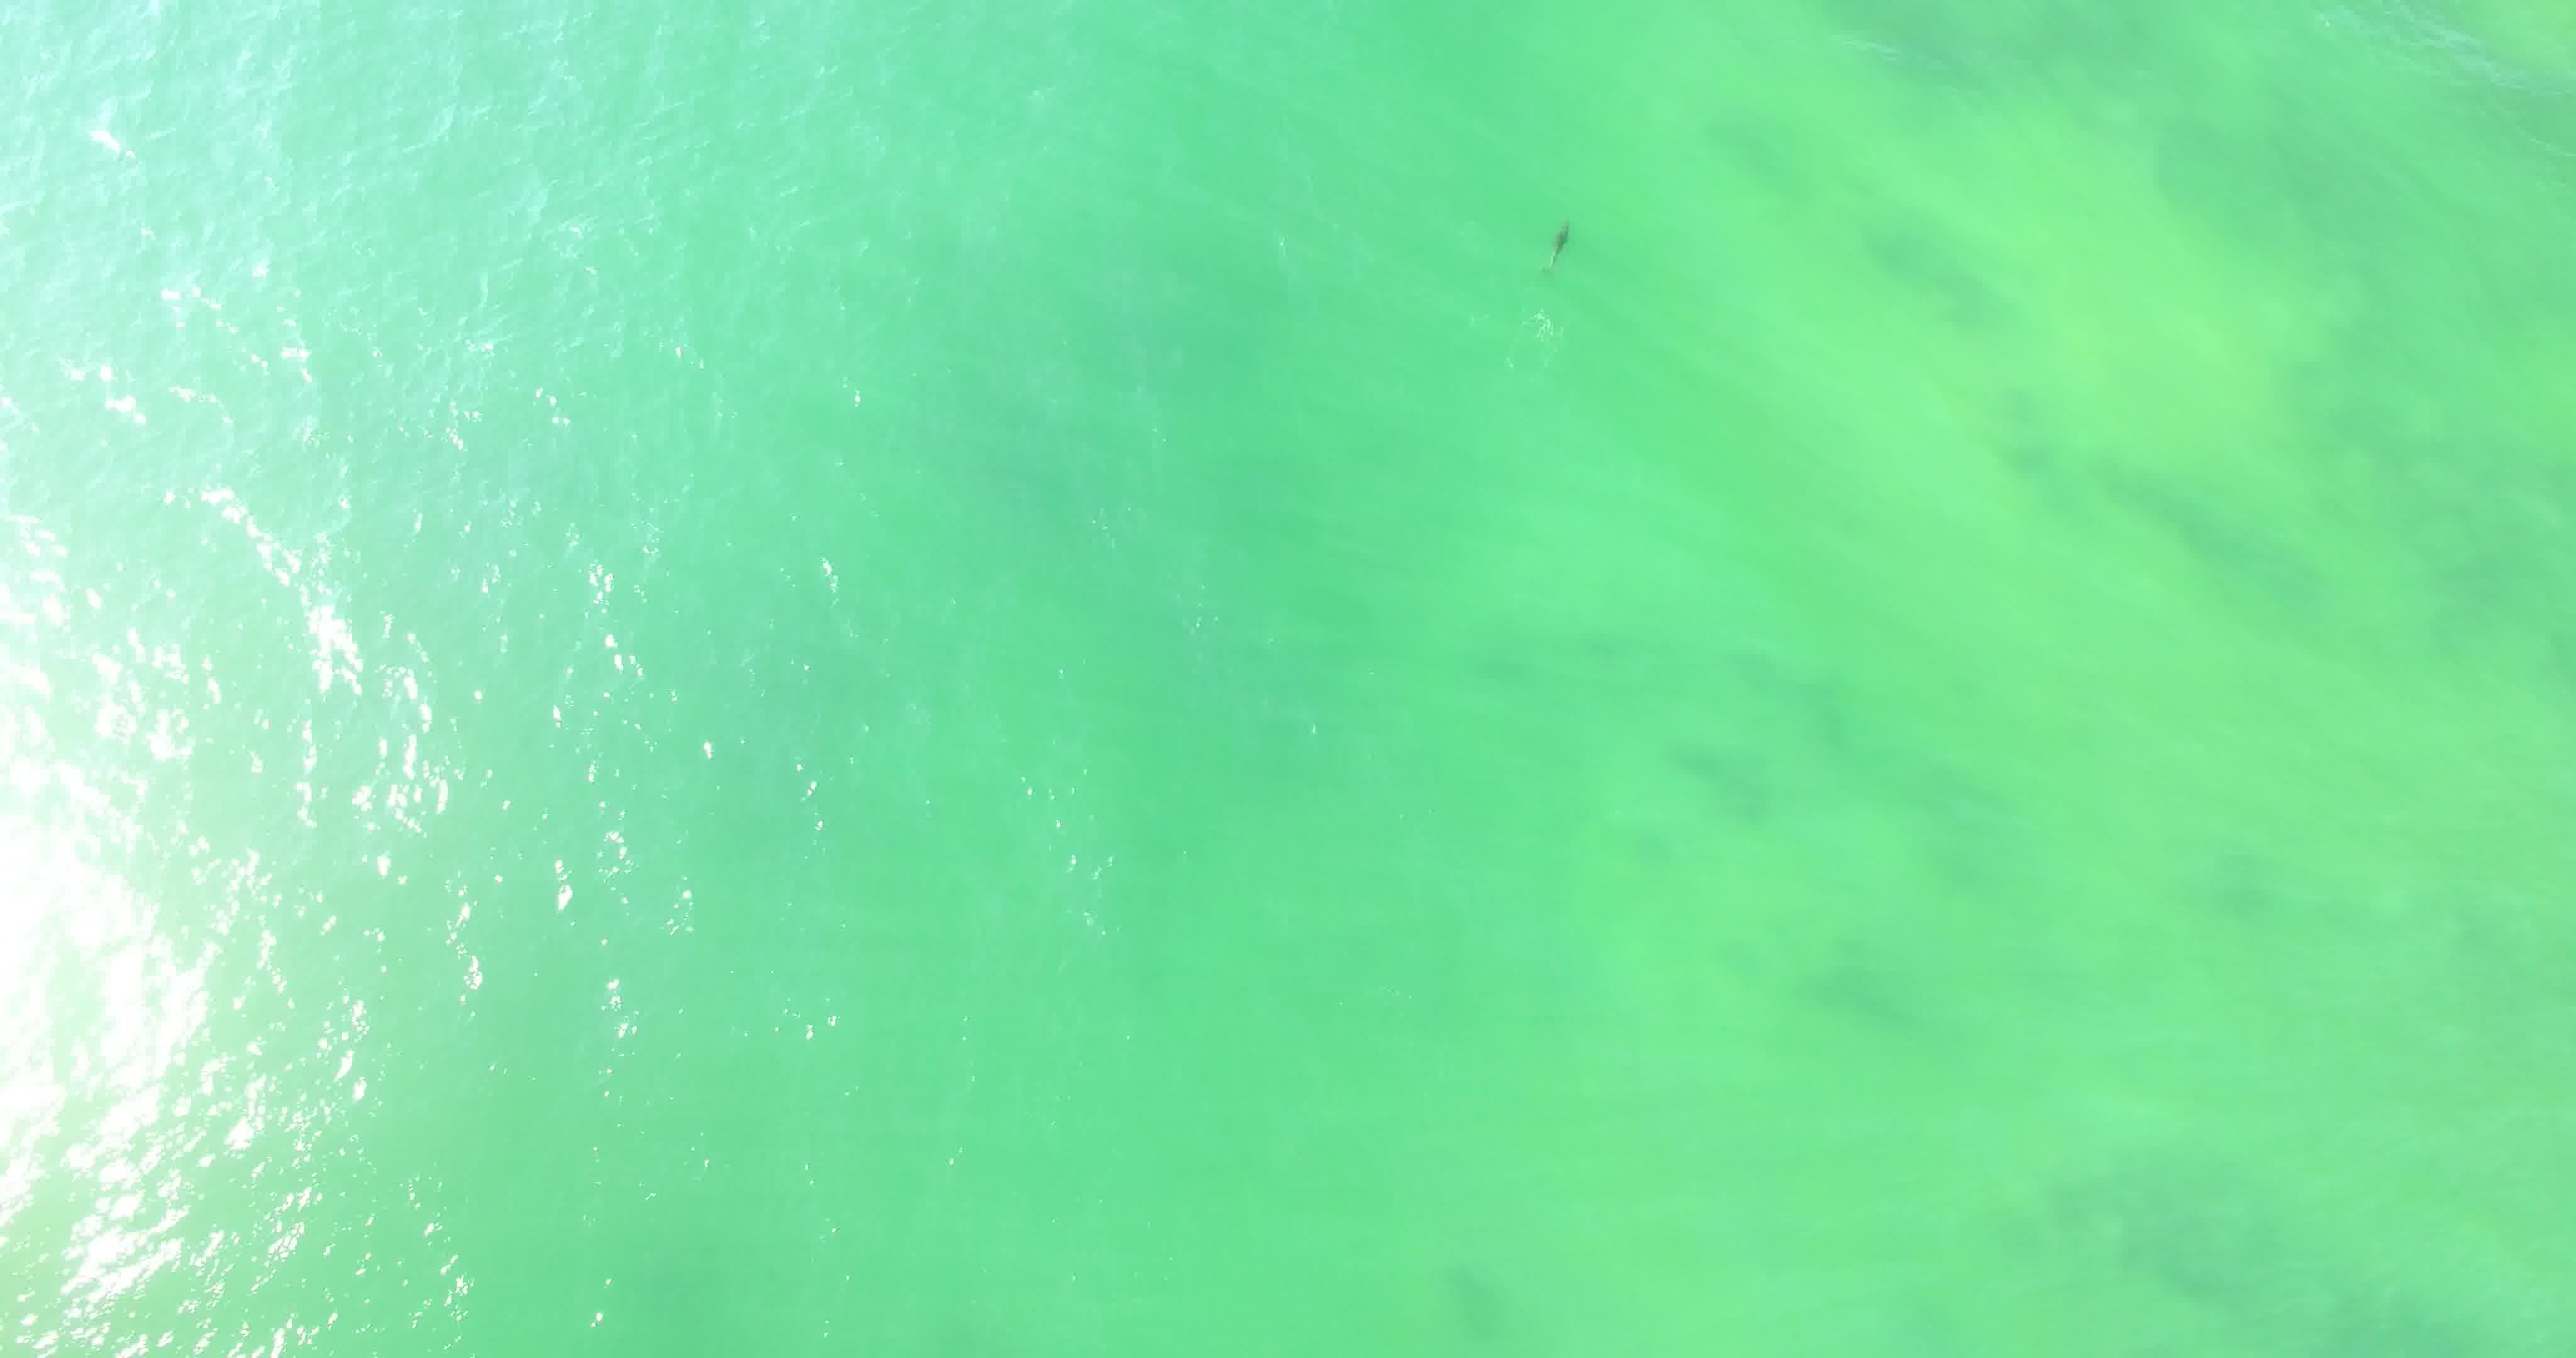dolphin: (1511, 181, 1601, 303)
